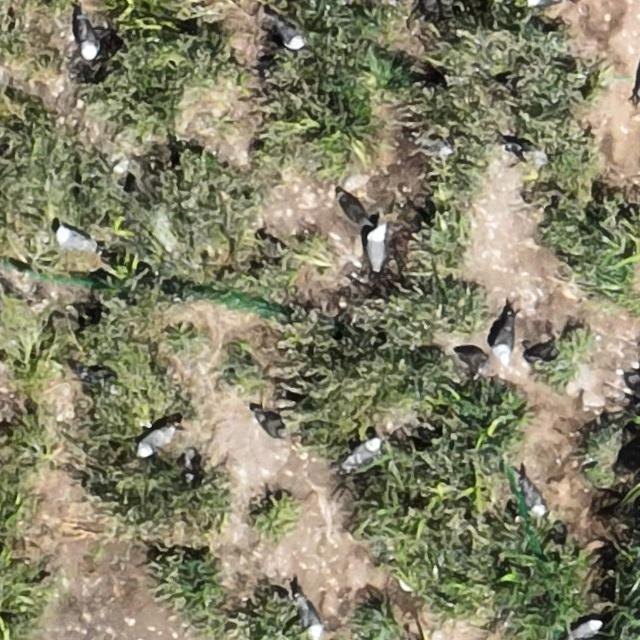umineko: (348, 437, 381, 464), (140, 428, 171, 454), (367, 227, 386, 269), (56, 230, 92, 252), (299, 600, 322, 634), (522, 484, 544, 518), (495, 320, 514, 358), (78, 22, 97, 59), (280, 23, 305, 49), (573, 619, 600, 637), (531, 0, 559, 5)
